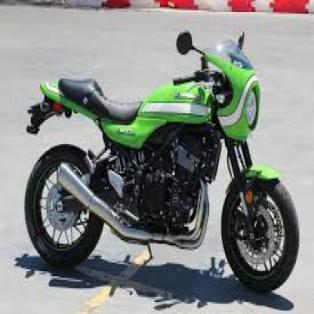Motocicleta: (22, 21, 300, 291)
